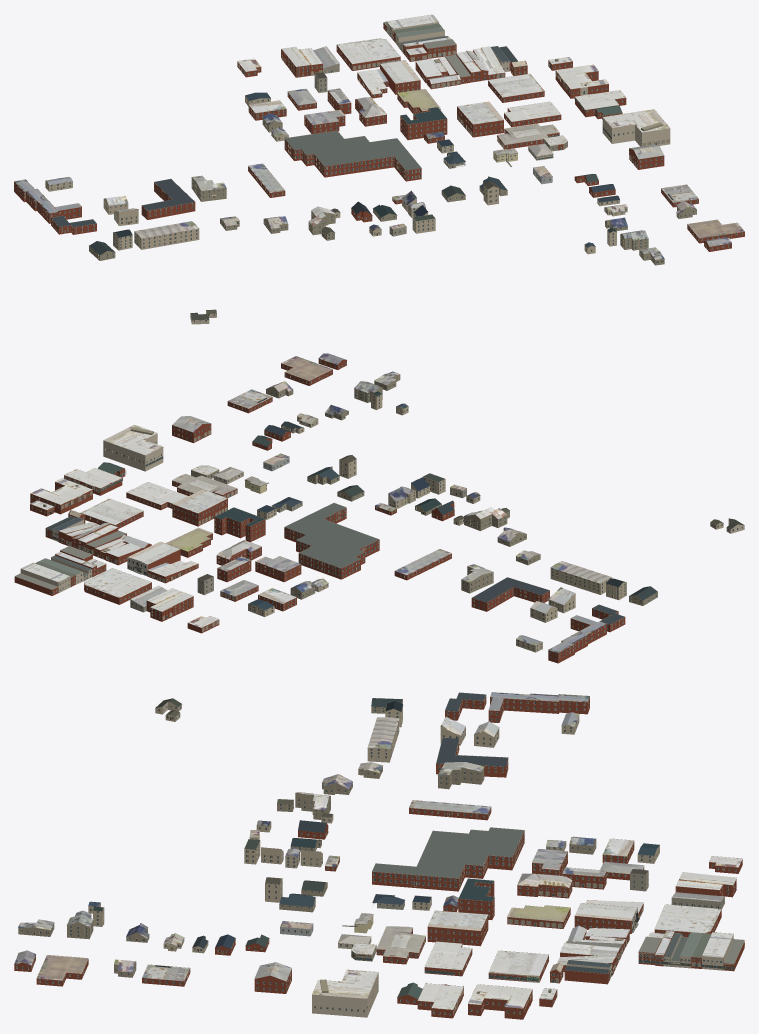
3 renders of one model, top to bottom at view 1: azimuth 30°, elevation 25°; view 2: azimuth 150°, elevation 25°; view 3: azimuth 270°, elevation 25°, orthographic. The views are drawn at different scales.
Parts seen in each view (by area): view 1: -1_0_269019848_1, -1_0_269020722_2, -1_0_451772531_16, -1_0_451772532_17, -1_0_269020755_3, -1_0_599817367_52; view 2: -1_0_269019848_1, -1_0_269020722_2, -1_0_451772531_16, -1_0_451772532_17, -1_0_269020755_3, -1_0_599817367_52; view 3: -1_0_269019848_1, -1_0_269020722_2, -1_0_451772531_16, -1_0_451772532_17, -1_0_269020755_3, -1_0_599817367_52.
Boxes of the visible parts, x1,y1,x2,y2 form: -1_0_269019848_1: (14,14,744,321); -1_0_269020722_2: (14,23,744,265); -1_0_451772531_16: (51,21,622,320); -1_0_451772532_17: (45,96,627,317); -1_0_269020755_3: (190,22,670,324); -1_0_599817367_52: (314,63,464,236); -1_0_269019848_1: (14,353,744,659); -1_0_269020722_2: (14,359,657,663); -1_0_451772531_16: (15,391,743,624); -1_0_451772532_17: (248,394,723,652); -1_0_269020755_3: (20,433,744,593); -1_0_599817367_52: (130,487,466,612); -1_0_269019848_1: (14,692,744,1015); -1_0_269020722_2: (14,695,744,1019); -1_0_451772531_16: (93,692,744,998); -1_0_451772532_17: (88,707,659,953); -1_0_269020755_3: (155,701,733,1017); -1_0_599817367_52: (249,832,724,909).
Bounding box in the file's own units: 537 × 21.77 × 515.
Materials: 29 (1 with a texture image).
